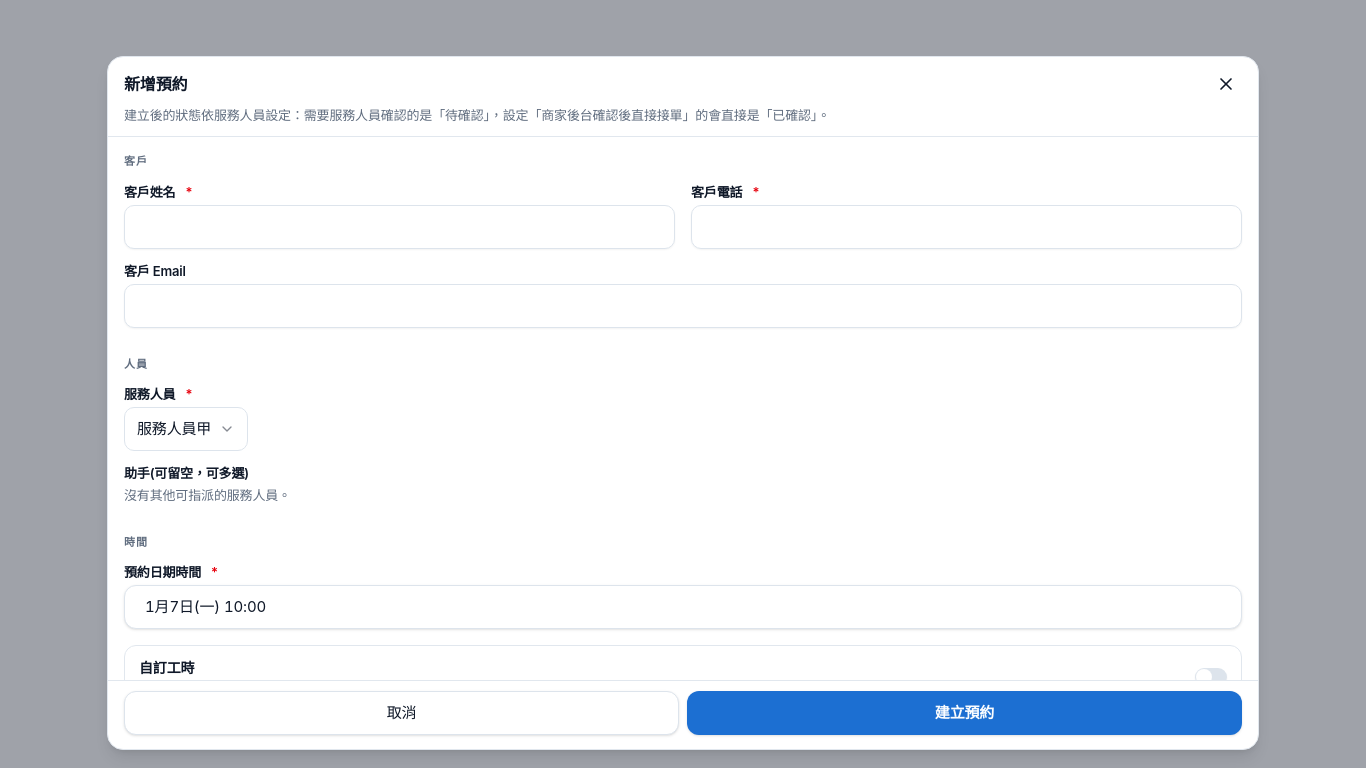
it: 建單表單 × 填過資料才問放棄(第 11 批 J) › 新增:填客戶姓名一個字 ⇒ Esc 先問放棄,不關
The width and height of the screenshot is (1366, 768).
Type "王" into the field with id "booking-customer-name" at coordinates (400, 227), box [124, 205, 675, 249]
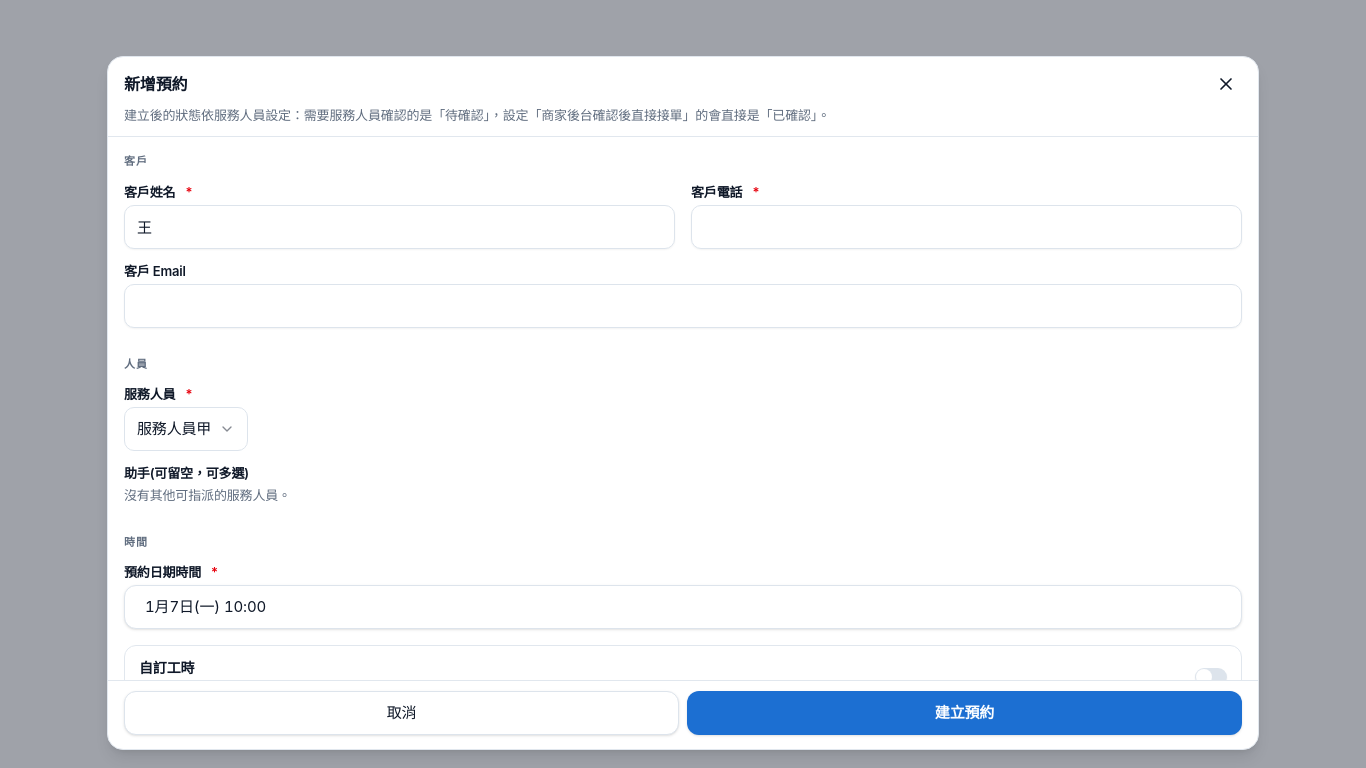
Press Escape in the dialog
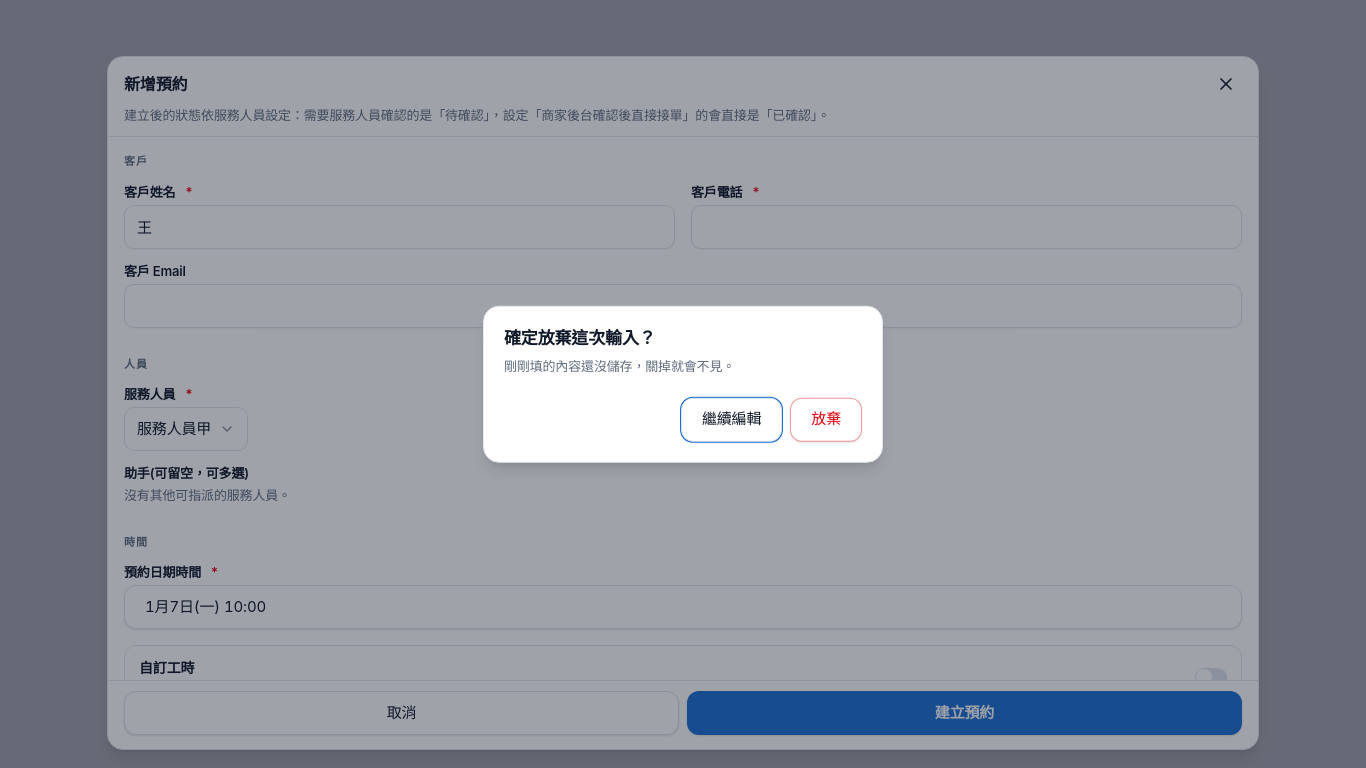
Expected: the heading "確定放棄這次輸入？" is shown, [504, 328, 656, 348]
